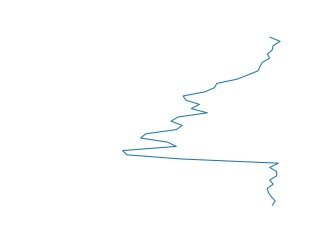proximalDeepseaFan: (119, 34, 283, 208)
